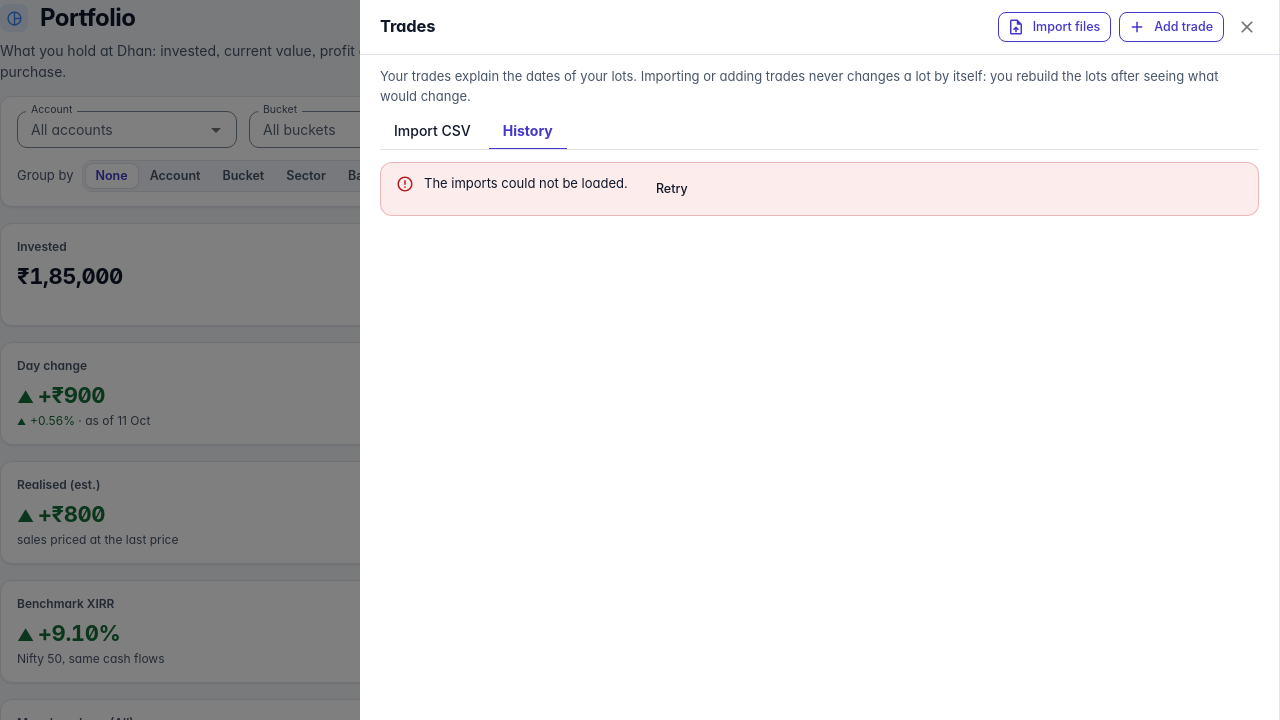
Import history › shows an error with Retry
The image size is (1280, 720).
Expected: the text "The imports could not be loaded." is shown, [424,174,628,194]
Click the button "Retry" at (672, 189), box [640,174,704,204]
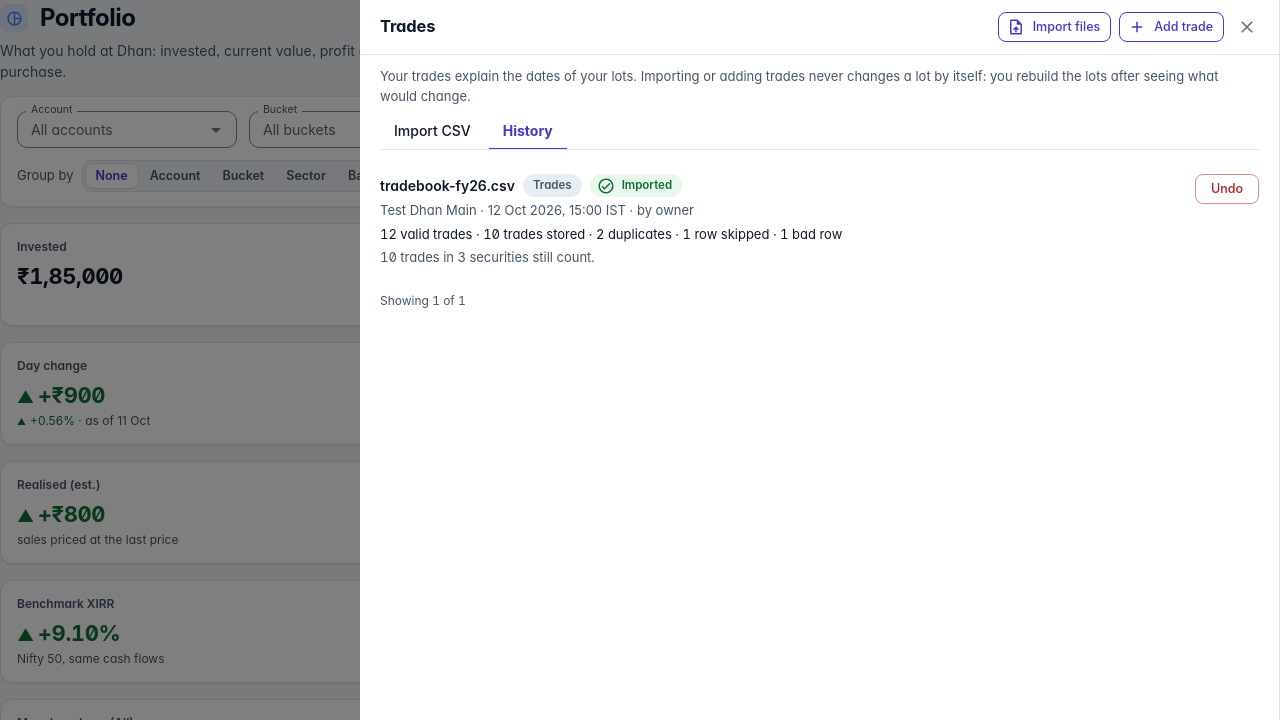
Now the text "tradebook-fy26.csv" is shown, box [380,175,515,196]
